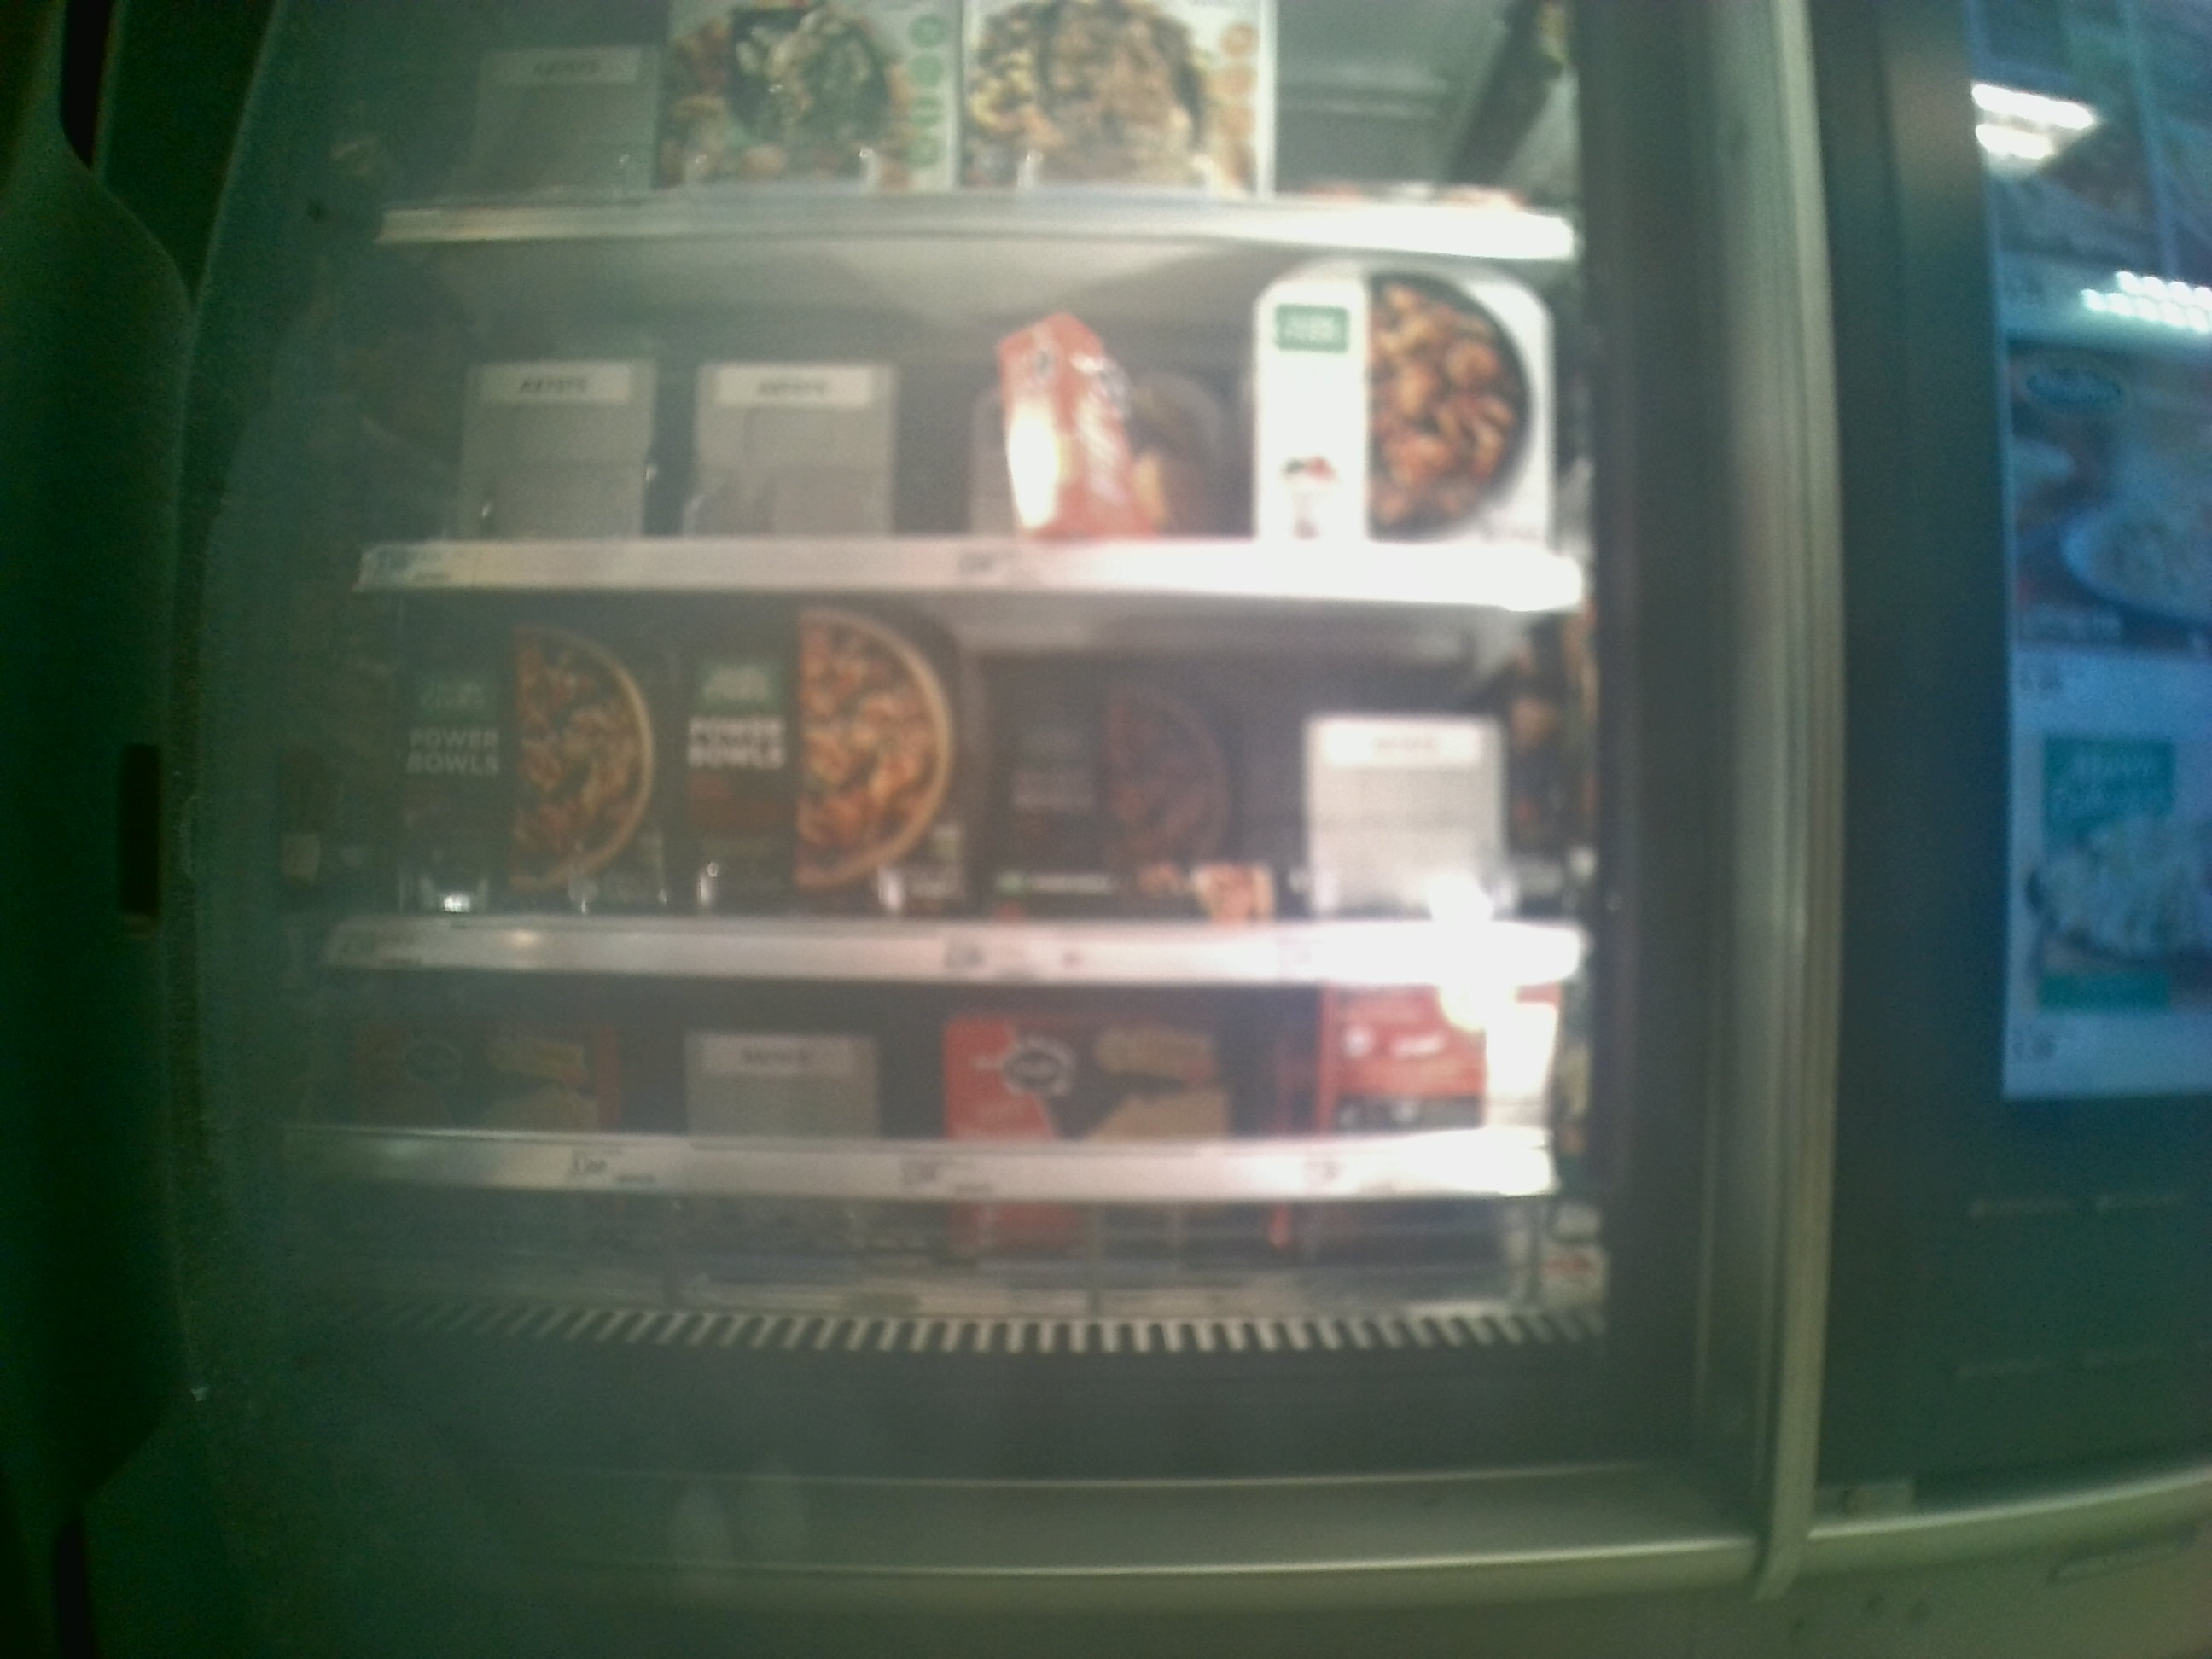shelf: (329, 591, 1627, 988), (355, 239, 1599, 601), (301, 972, 1615, 1298)
